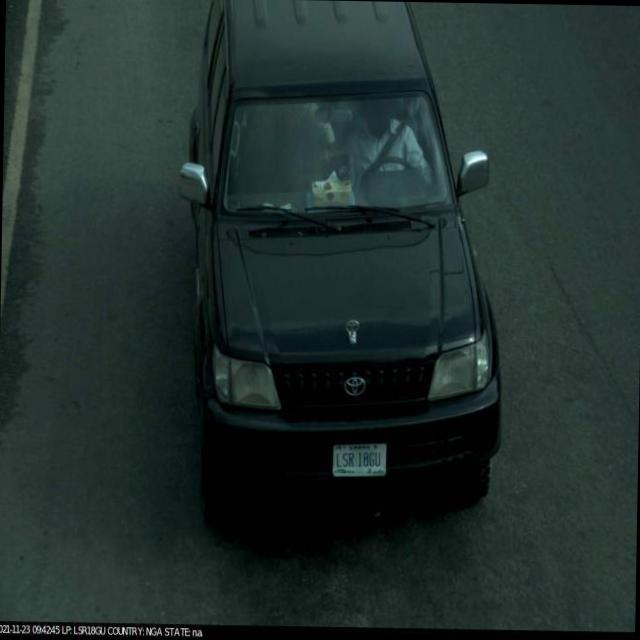person_with_seatbelt: (343, 86, 439, 211)
